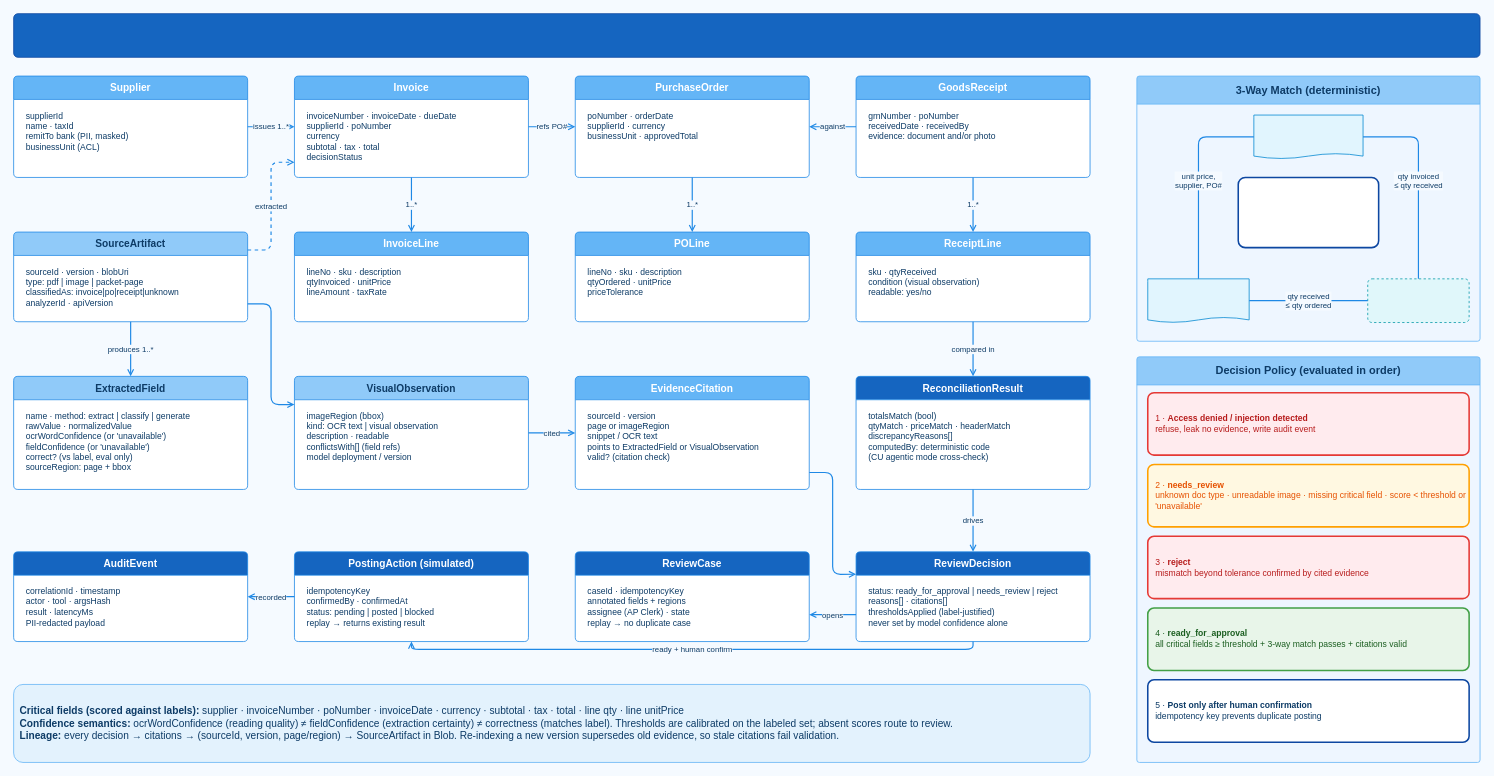
This 1494x776 diagram has some shape labels left out. Each missing label, with the centre of its shape:
Domain Model · Evidence Lineage · 3-Way Match Semantics: pixel 746 35
Goods Receipt what arrived: pixel 1418 300
Invoice what we're billed: pixel 1308 136
Purchase Order what we agreed: pixel 1198 300
Σ lines + tax = total same supplier · PO# · currency tolerance from labels: pixel 1308 212
